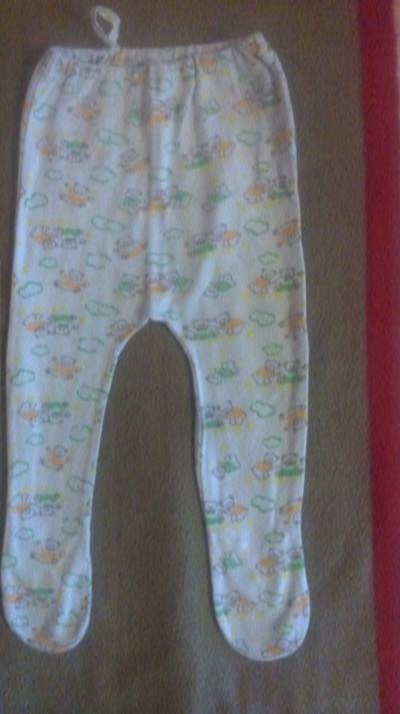Pants: (6, 37, 323, 655)
